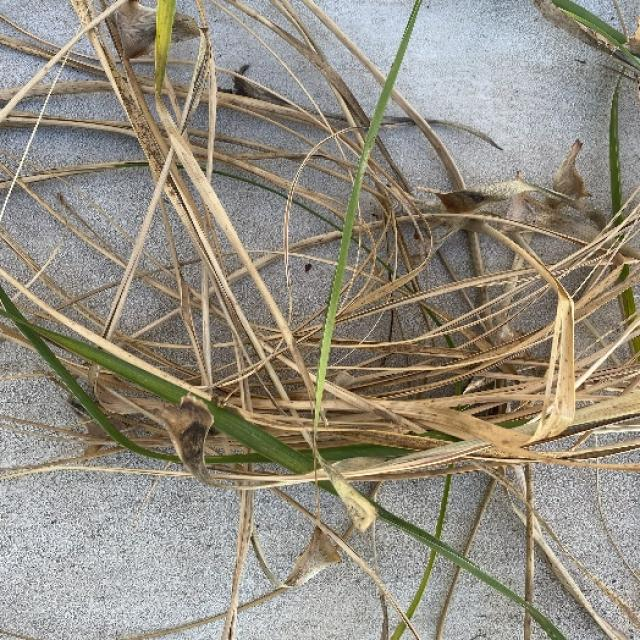organik: (6, 0, 640, 552)
